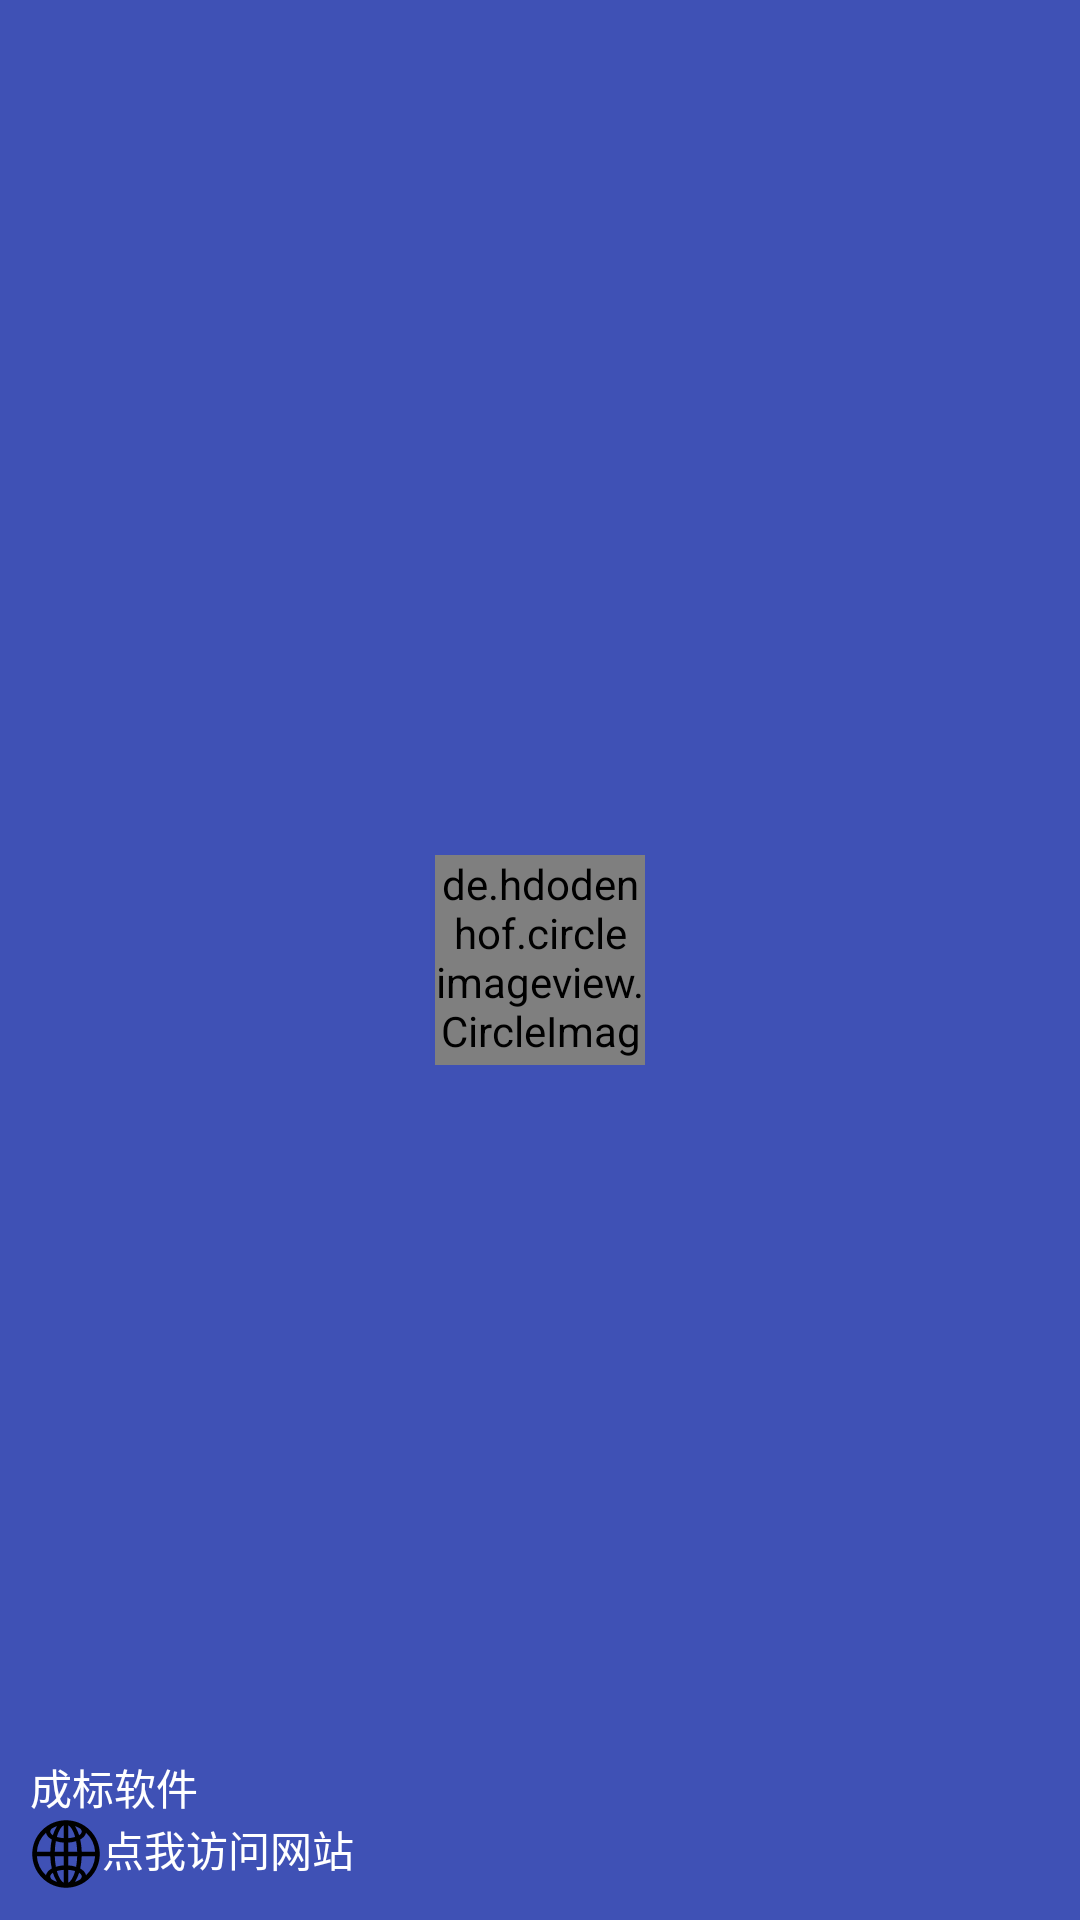

Icon bounding boxes for this 1080 × 1920 phone screenshot, format (x1, y1, x2, y2):
websiet: (32, 1820, 100, 1888)
